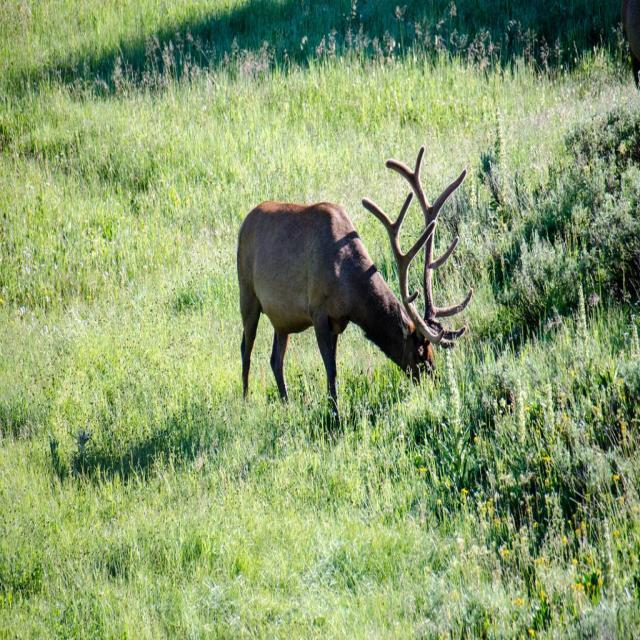Deer: (236, 147, 473, 424)
